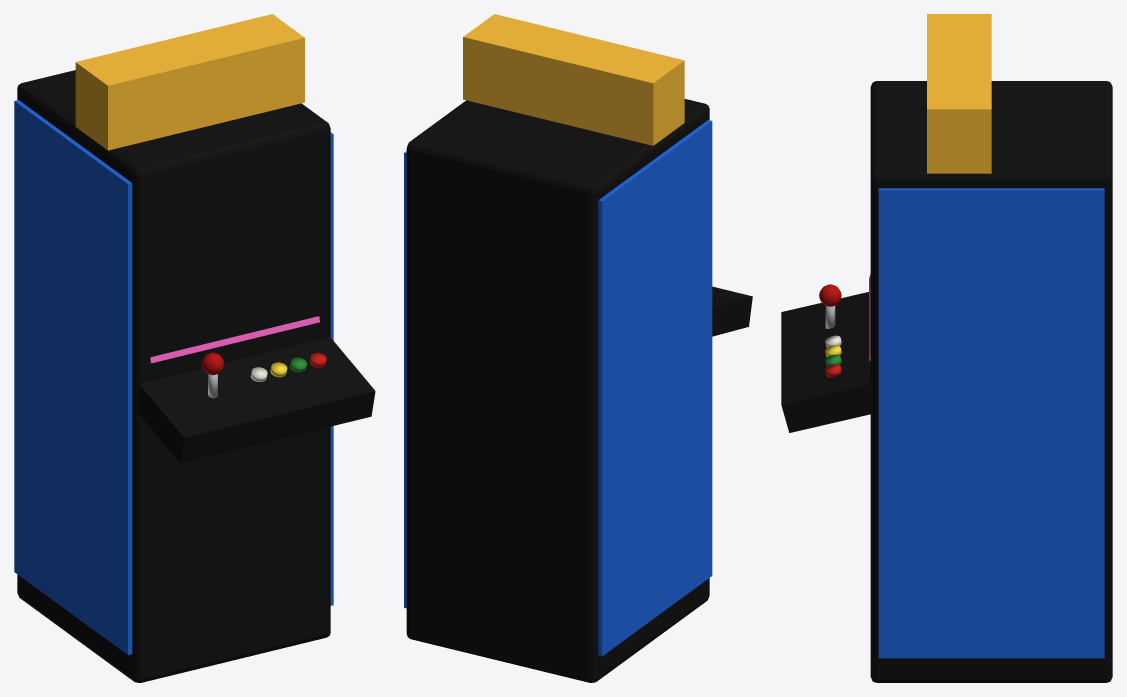
File: arcade_cabinet.glb
The picture shows the model from 3 angles, left to right: view 1: azimuth 30°, elevation 25°; view 2: azimuth 150°, elevation 25°; view 3: azimuth 270°, elevation 25°; orthographic projection. The views are drawn at different scales.
Visible parts, largest first — view 1: arcade_cabinet; view 2: arcade_cabinet; view 3: arcade_cabinet.
Boxes of the visible parts, x1,y1,x2,y2 form: arcade_cabinet: [14, 14, 375, 682]; arcade_cabinet: [404, 14, 752, 682]; arcade_cabinet: [781, 14, 1112, 682].
Bounding box in the file's own units: 0.73 × 1.97 × 1.03.
Materials: 1 (1 with a texture image).
